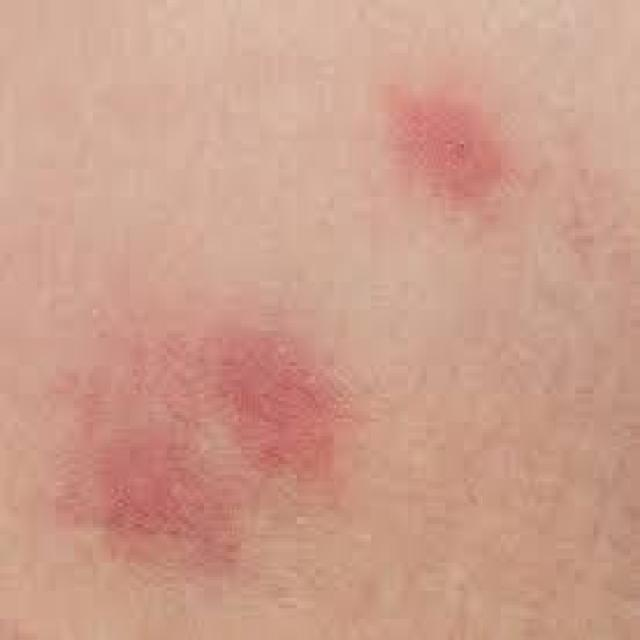kan emici bocekler: (109, 285, 357, 603), (361, 72, 544, 253)
